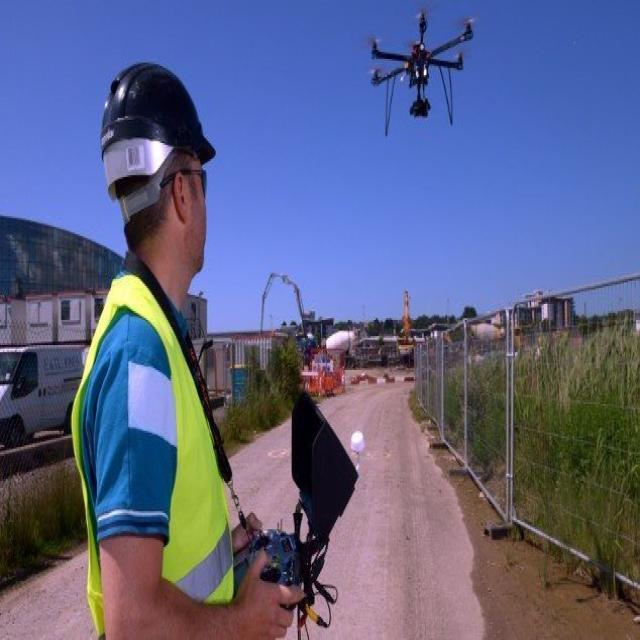drone: (348, 11, 496, 138)
